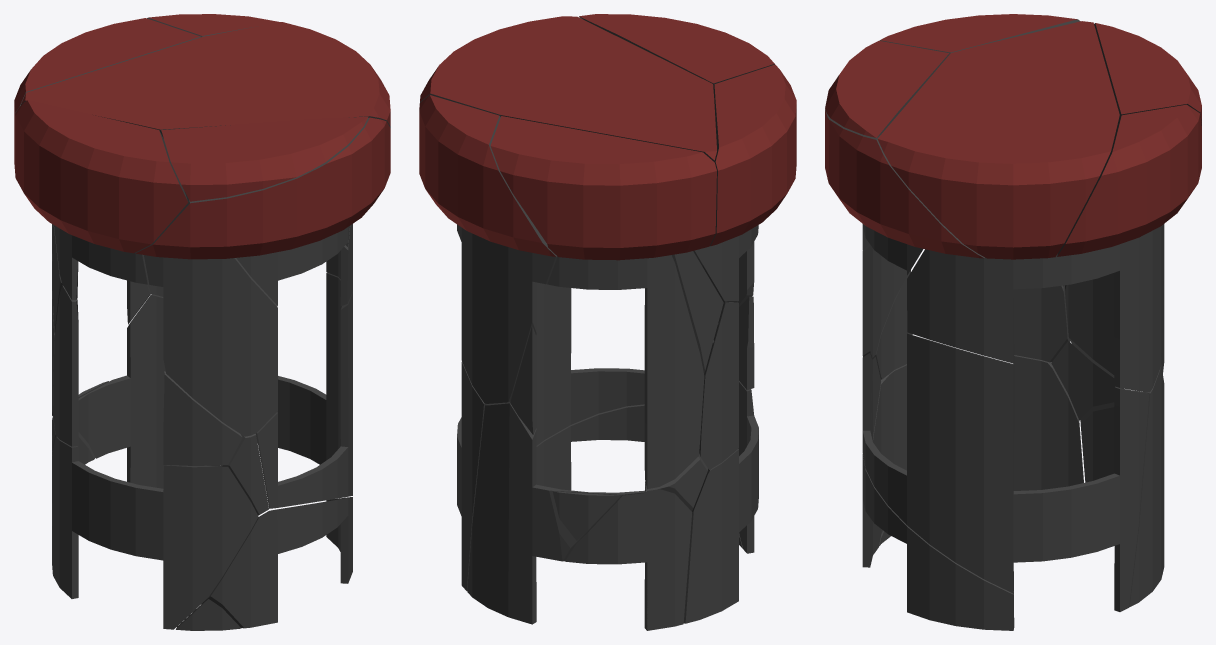
The model's file is Barhocker_kaputt.glb.
The picture shows the model from 3 angles, left to right: view 1: azimuth 30°, elevation 25°; view 2: azimuth 150°, elevation 25°; view 3: azimuth 270°, elevation 25°; orthographic projection.
Parts seen in each view (by area): view 1: Barhocker.002_cell.004, Barhocker.001_cell.001, Barhocker.002_cell.003, Barhocker.001_cell.004, Barhocker.002_cell, Barhocker.001_cell.012, Barhocker.002_cell.001, Barhocker.001_cell.007, Barhocker.001_cell.013, Barhocker.002_cell.006, Barhocker.001_cell.005, Barhocker.001_cell.014 (+8 smaller); view 2: Barhocker.002_cell.004, Barhocker.002_cell.006, Barhocker.001_cell.007, Barhocker.001_cell.009, Barhocker.001_cell.012, Barhocker.002_cell.003, Barhocker.002_cell.007, Barhocker.001_cell.006, Barhocker.001_cell.001, Barhocker.001_cell, Barhocker.002_cell.001, Barhocker.001_cell.014 (+7 smaller); view 3: Barhocker.002_cell.004, Barhocker.001_cell.012, Barhocker.001_cell.006, Barhocker.002_cell.007, Barhocker.001_cell.001, Barhocker.001_cell.013, Barhocker.002_cell, Barhocker.001_cell.007, Barhocker.002_cell.001, Barhocker.002_cell.006, Barhocker.002_cell.003, Barhocker.001_cell.009 (+5 smaller).
Part boxes in pixels (x1=…): Barhocker.002_cell.004: x1=21, y1=22, x2=390, y2=138; Barhocker.001_cell.001: x1=52, y1=436, x2=258, y2=629; Barhocker.002_cell.003: x1=15, y1=100, x2=188, y2=253; Barhocker.001_cell.004: x1=144, y1=255, x2=277, y2=436; Barhocker.002_cell: x1=135, y1=117, x2=390, y2=259; Barhocker.001_cell.012: x1=220, y1=272, x2=352, y2=508; Barhocker.002_cell.001: x1=161, y1=116, x2=368, y2=201; Barhocker.001_cell.007: x1=52, y1=294, x2=220, y2=488; Barhocker.001_cell.013: x1=201, y1=497, x2=352, y2=628; Barhocker.002_cell.006: x1=14, y1=18, x2=200, y2=172; Barhocker.001_cell.005: x1=163, y1=371, x2=242, y2=465; Barhocker.001_cell.014: x1=53, y1=285, x2=78, y2=446; Barhocker.002_cell.004: x1=420, y1=16, x2=716, y2=161; Barhocker.002_cell.006: x1=490, y1=116, x2=716, y2=260; Barhocker.001_cell.007: x1=467, y1=401, x2=707, y2=624; Barhocker.001_cell.009: x1=547, y1=255, x2=704, y2=488; Barhocker.001_cell.012: x1=457, y1=282, x2=644, y2=590; Barhocker.002_cell.003: x1=710, y1=64, x2=796, y2=246; Barhocker.002_cell.007: x1=419, y1=95, x2=556, y2=256; Barhocker.001_cell.006: x1=457, y1=224, x2=557, y2=403; Barhocker.001_cell.001: x1=683, y1=381, x2=758, y2=623; Barhocker.001_cell: x1=565, y1=489, x2=692, y2=630; Barhocker.002_cell.001: x1=579, y1=14, x2=774, y2=85; Barhocker.001_cell.014: x1=699, y1=302, x2=738, y2=469; Barhocker.002_cell.004: x1=877, y1=21, x2=1119, y2=259; Barhocker.001_cell.012: x1=862, y1=333, x2=1149, y2=611; Barhocker.001_cell.006: x1=907, y1=224, x2=1164, y2=392; Barhocker.002_cell.007: x1=1057, y1=104, x2=1201, y2=256; Barhocker.001_cell.001: x1=873, y1=355, x2=1083, y2=490; Barhocker.001_cell.013: x1=862, y1=454, x2=1014, y2=630; Barhocker.002_cell: x1=825, y1=109, x2=984, y2=258; Barhocker.001_cell.007: x1=1051, y1=341, x2=1164, y2=607; Barhocker.002_cell.001: x1=825, y1=40, x2=949, y2=137; Barhocker.002_cell.006: x1=1094, y1=23, x2=1201, y2=125; Barhocker.002_cell.003: x1=879, y1=14, x2=1080, y2=54; Barhocker.001_cell.009: x1=1065, y1=272, x2=1114, y2=377.
Size of the model in its own units: 0.5 by 0.7 by 0.5.
